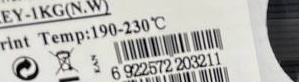1d: (111, 27, 225, 62)
